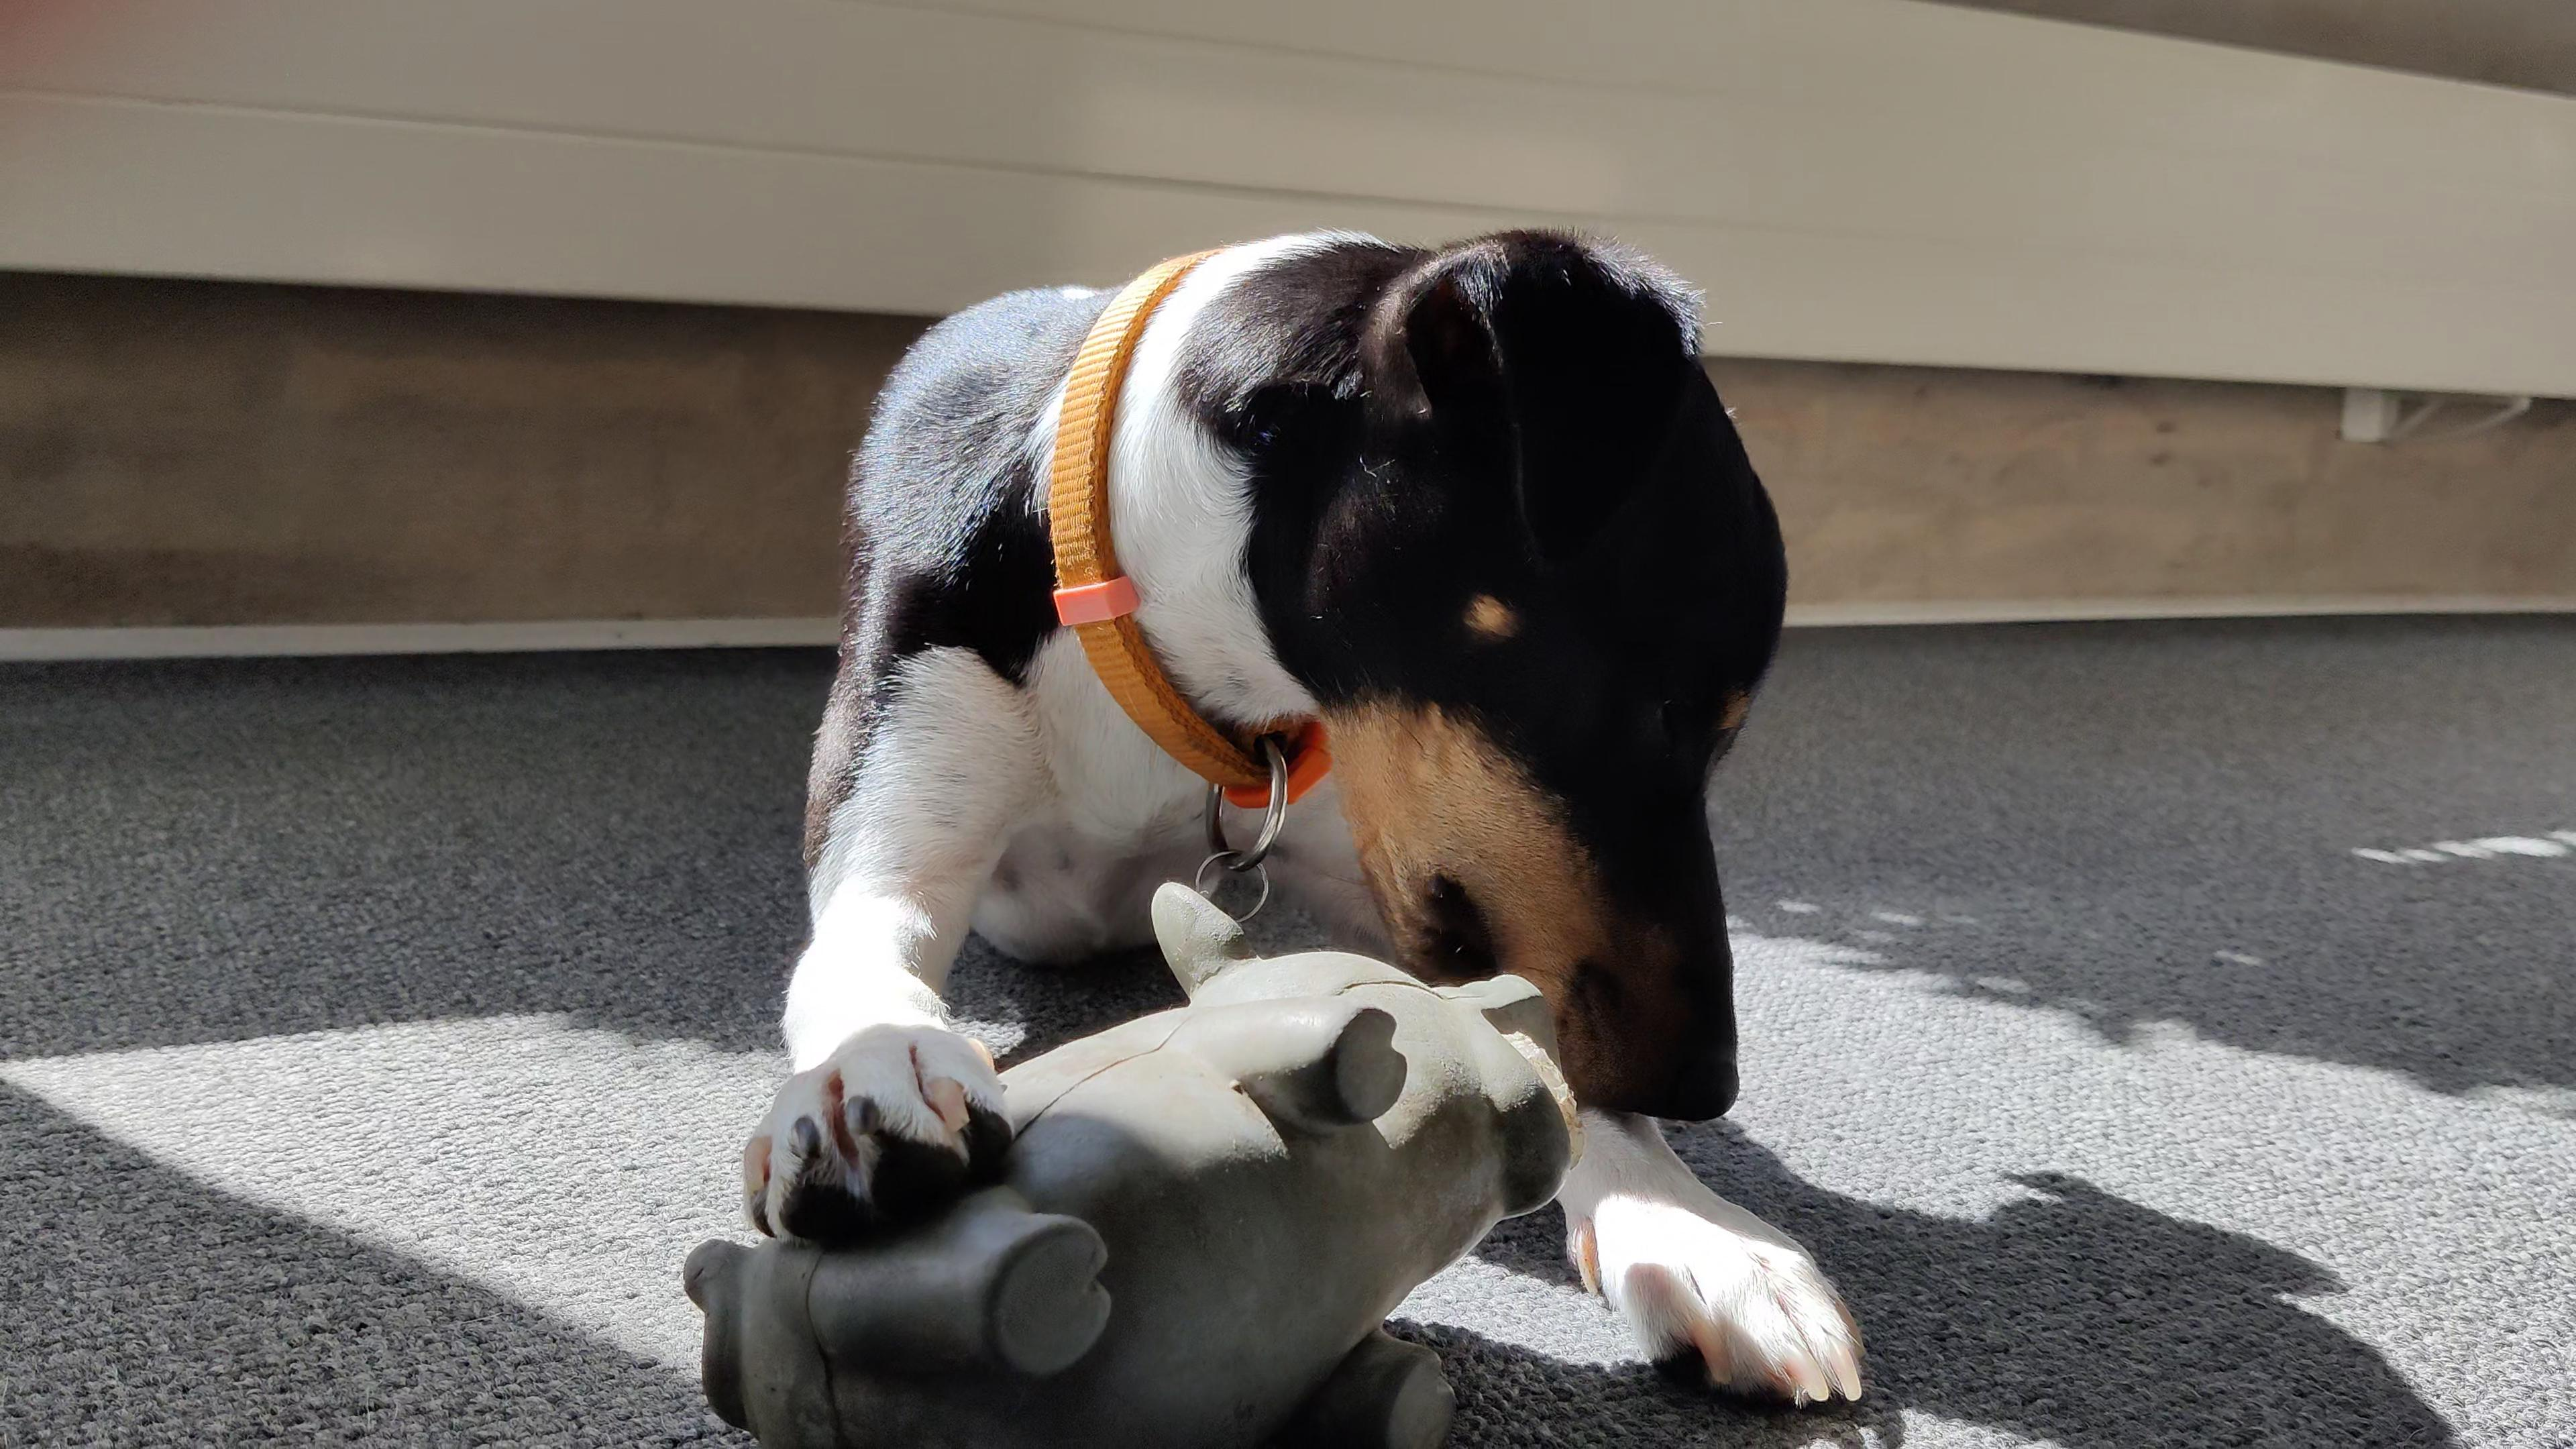Dog: (727, 219, 1874, 1407)
